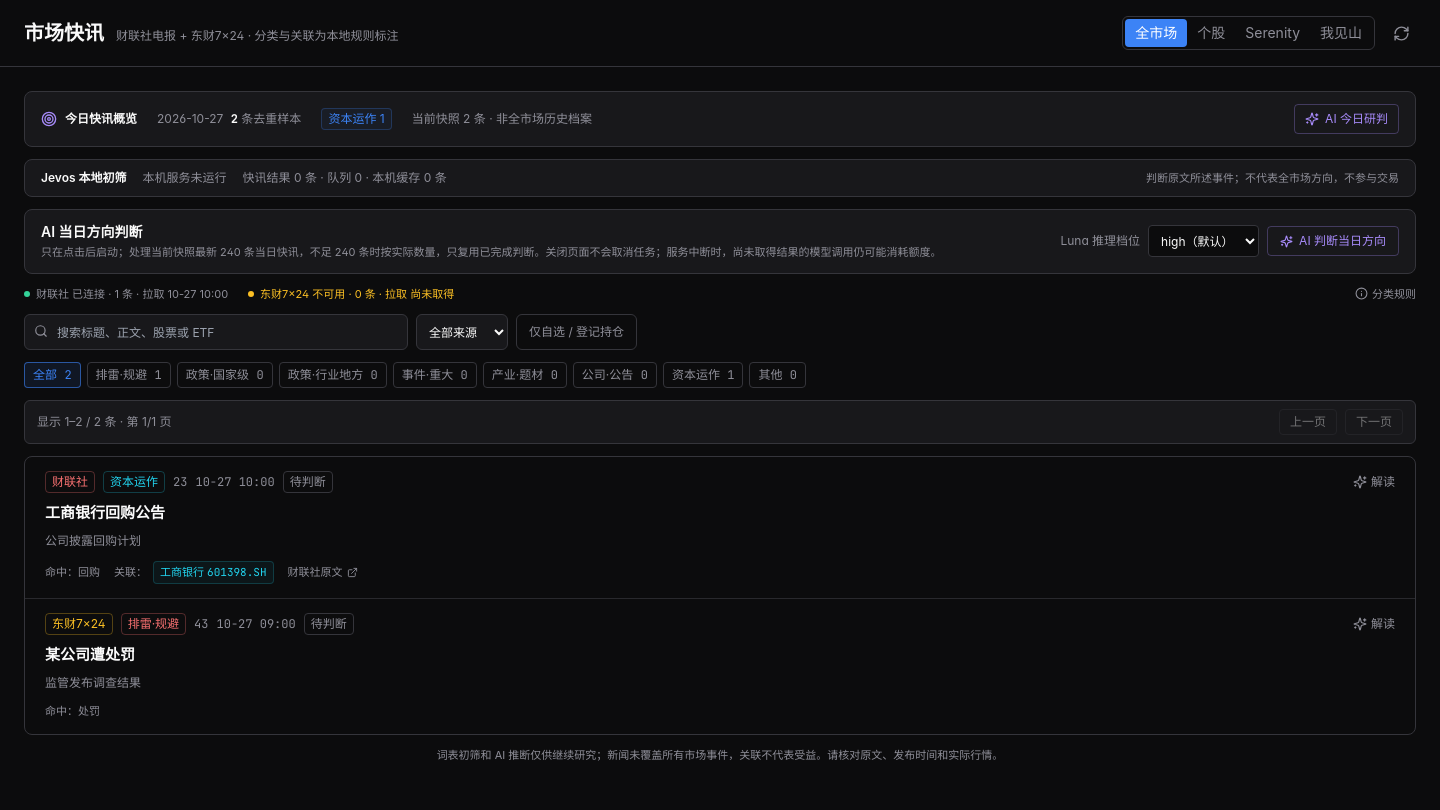
Test: shows unconfigured model and can close the AI panel
Click the button "解读" in the row of "23" at (1374, 482), box [1353,474,1395,490]
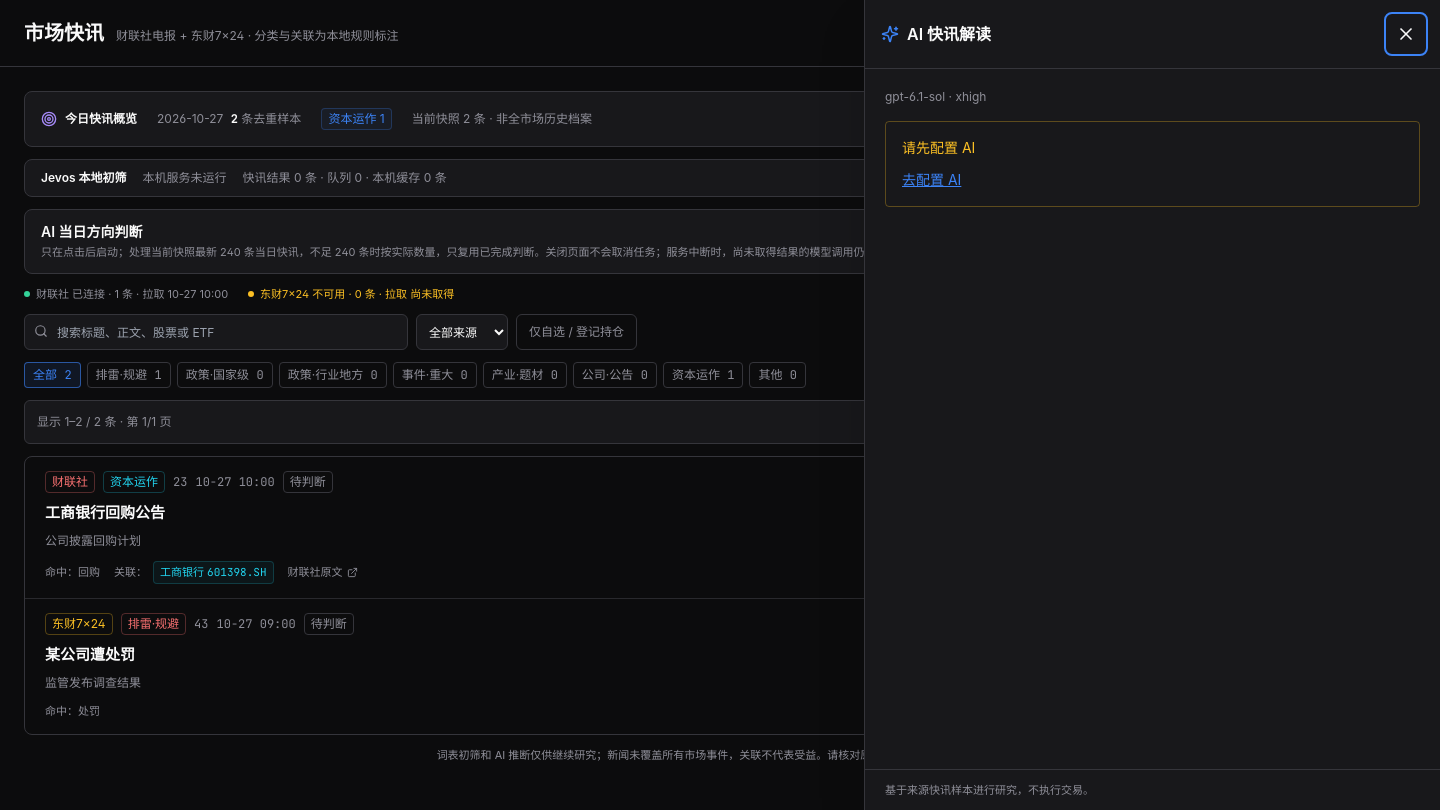
Check: the text "gpt-6.1-sol · xhigh" is shown, box [885,89,986,104]
Check: the text "请先配置 AI" is shown, box [902,139,975,156]
Check: the link to "/settings?tab=ai" is shown, box [902,170,961,190]
Click the button named "关闭解读" at (1406, 34), box [1388,16,1424,52]
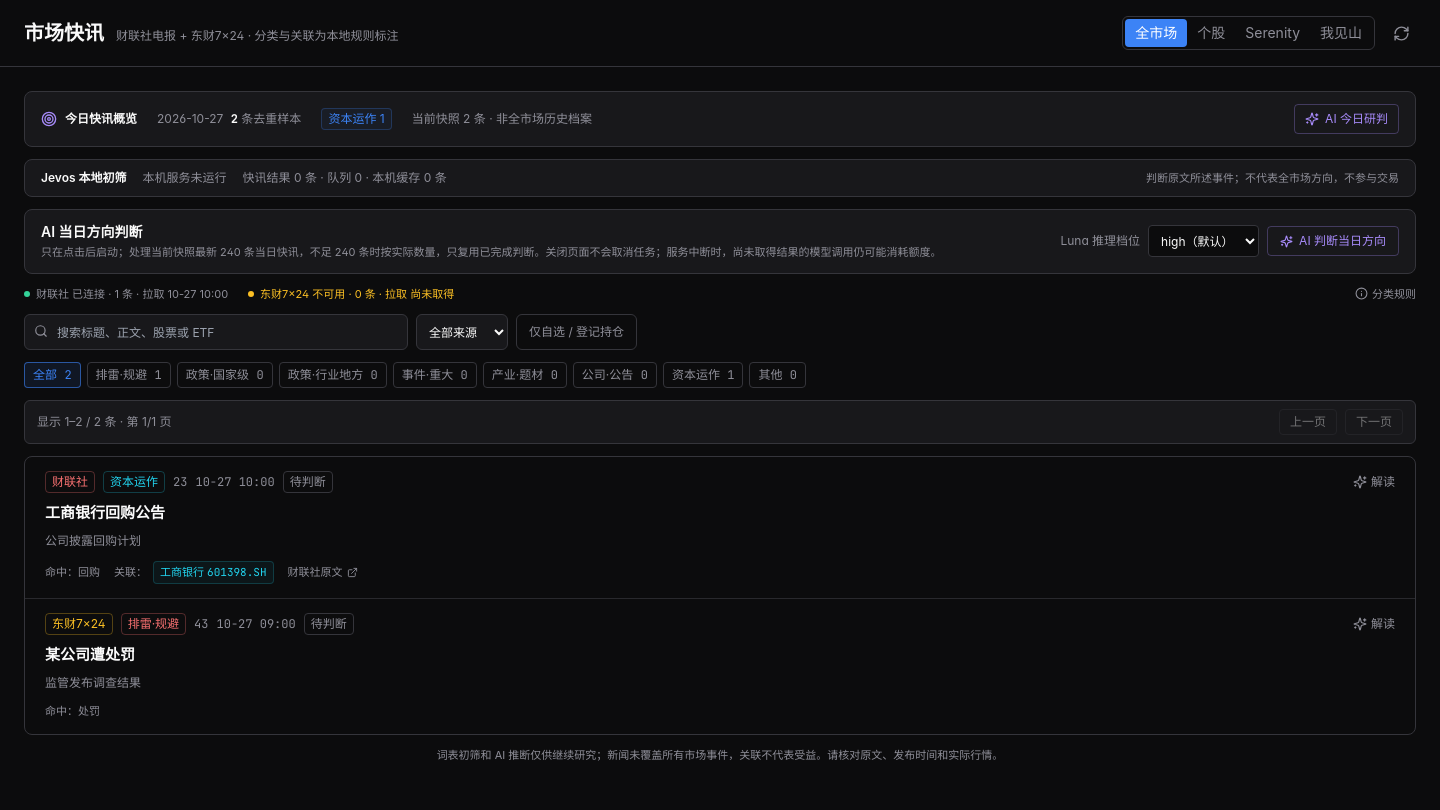
Check: the dialog is gone
